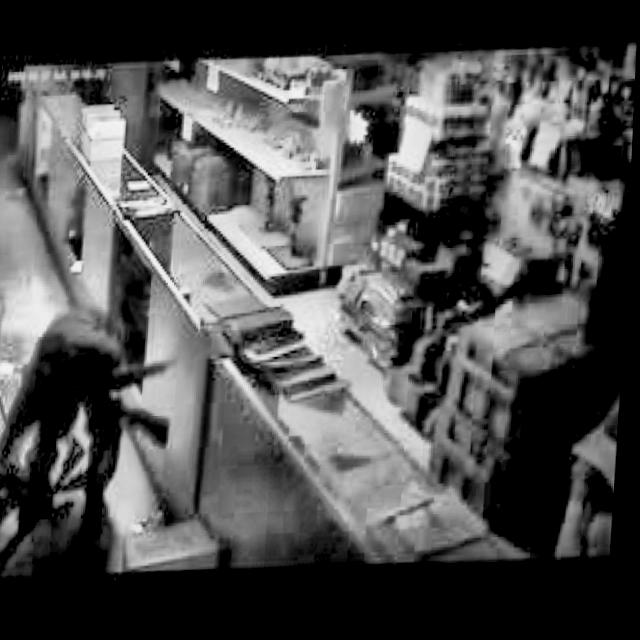burglary: (0, 289, 188, 577)
